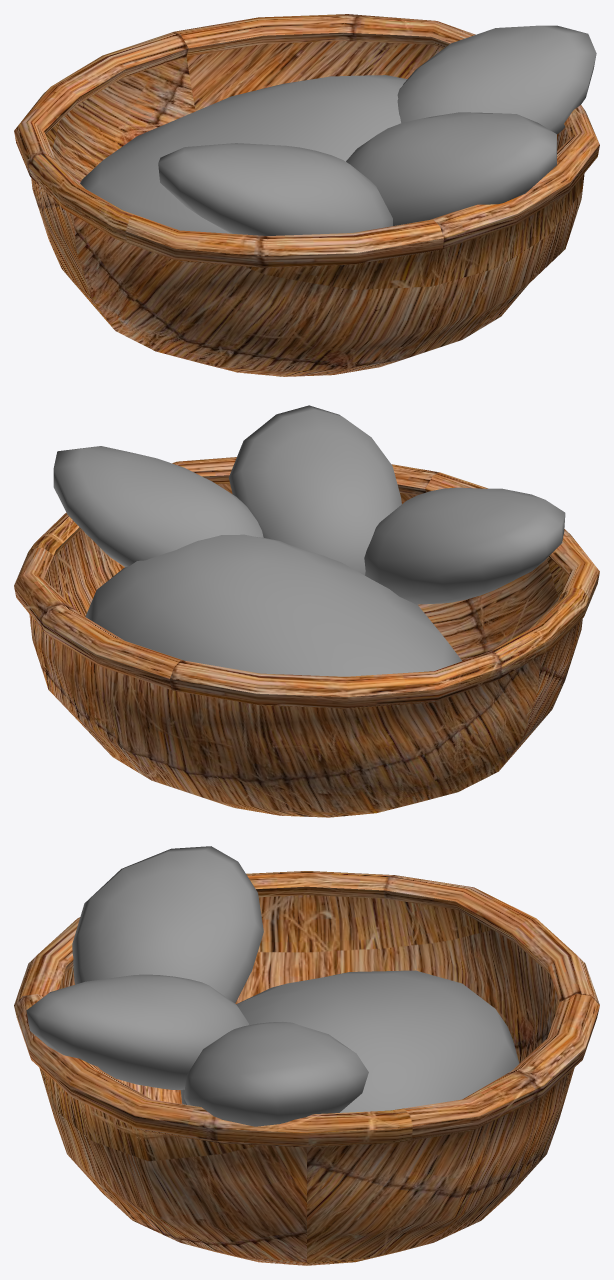
File: Item_LightStoneBasket.fbx
3 views of the same model, one above another, from view 1: azimuth 30°, elevation 25°; view 2: azimuth 150°, elevation 25°; view 3: azimuth 270°, elevation 25° (orthographic). The views are drawn at different scales.
Parts seen in each view (by area): view 1: 소쿠리, 발광석_04, 발광석_01, 발광석_02, 발광석_03; view 2: 소쿠리, 발광석_04, 발광석_02, 발광석_01, 발광석_03; view 3: 소쿠리, 발광석_04, 발광석_01, 발광석_02, 발광석_03.
Part boxes in pixels (x1,y1,x2,y2): 소쿠리: (14, 14, 599, 376); 발광석_04: (80, 75, 407, 233); 발광석_01: (158, 143, 392, 235); 발광석_02: (346, 112, 556, 225); 발광석_03: (397, 25, 596, 134); 소쿠리: (14, 457, 599, 817); 발광석_04: (85, 534, 461, 676); 발광석_02: (228, 405, 401, 575); 발광석_01: (364, 487, 565, 604); 발광석_03: (53, 446, 263, 567); 소쿠리: (14, 871, 599, 1265); 발광석_04: (180, 970, 519, 1112); 발광석_01: (72, 846, 263, 1003); 발광석_02: (26, 974, 248, 1089); 발광석_03: (184, 1022, 368, 1126).
Bounding box in the file's own units: 79.7 × 37.51 × 74.13.
